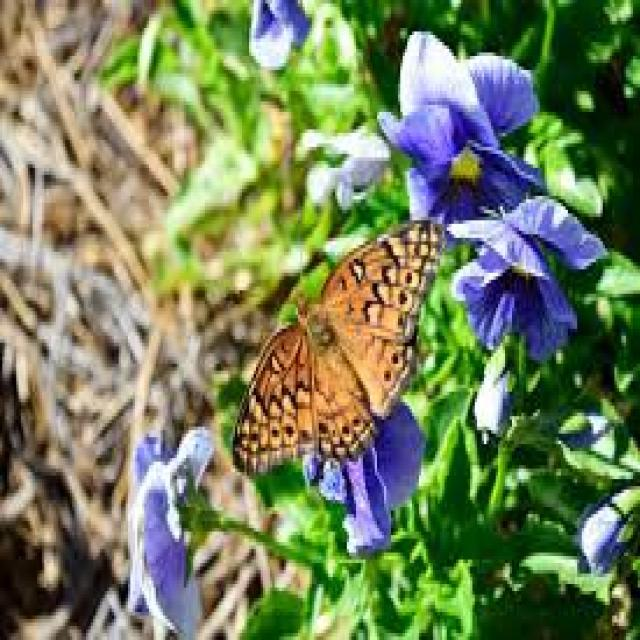butterfly: (230, 275, 432, 442)
